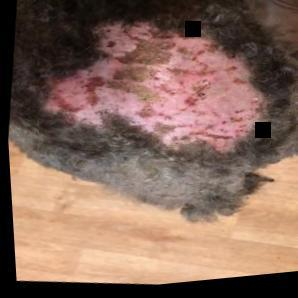skin_lesions: (27, 1, 282, 181)
